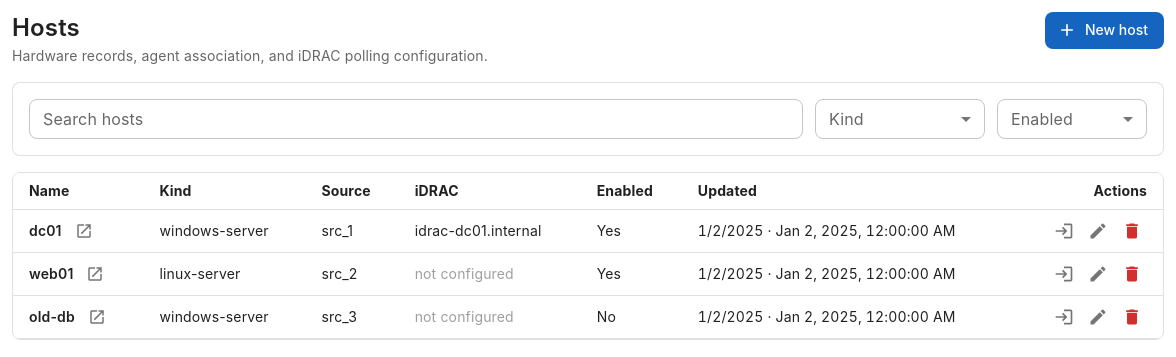
Test: HostsPage filters › lists all hosts and filters by free text
Expected: the text "dc01" is shown, [29,221,62,241]
Expected: the text "web01" is shown, [29,264,74,284]
Type "old" into the field labelled "Search hosts" at x=416, y=119, box [29,99,803,139]
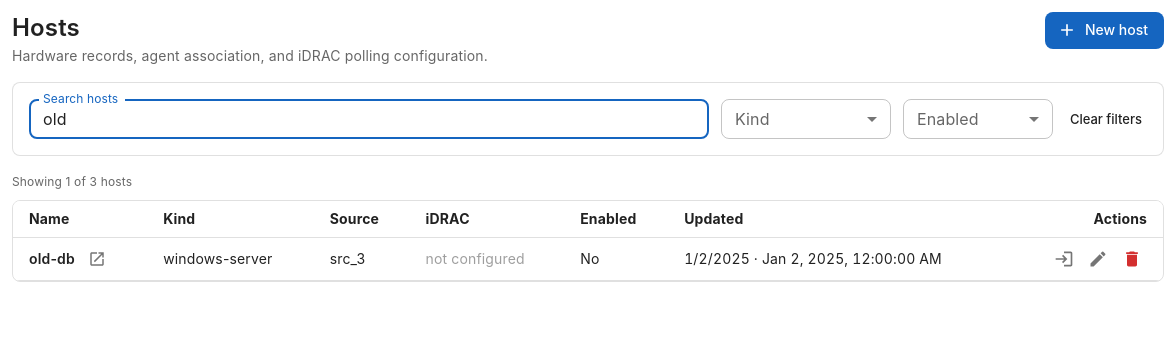
Expected: the text "old-db" is shown, [29,249,75,269]
Expected: the text "dc01" is gone
Expected: the text "Showing 1 of 3 hosts" is shown, [12,174,132,189]
